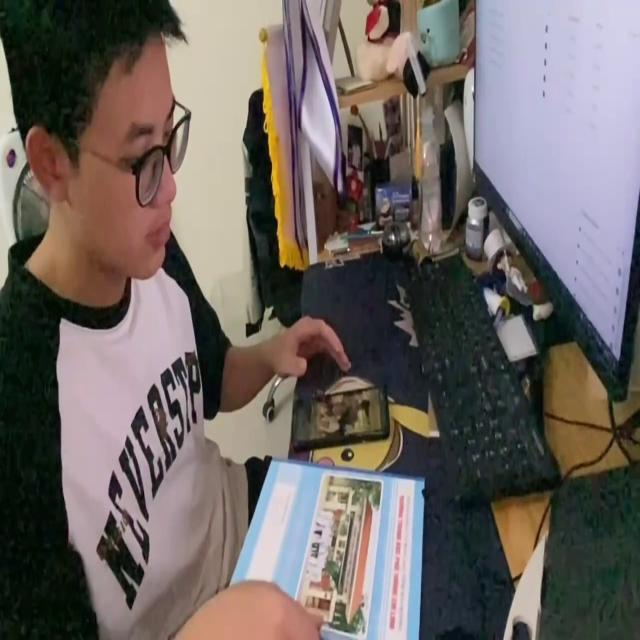book: (231, 453, 427, 640)
laptop: (472, 7, 640, 405)
phone: (294, 379, 392, 446)
student: (1, 0, 353, 640)
